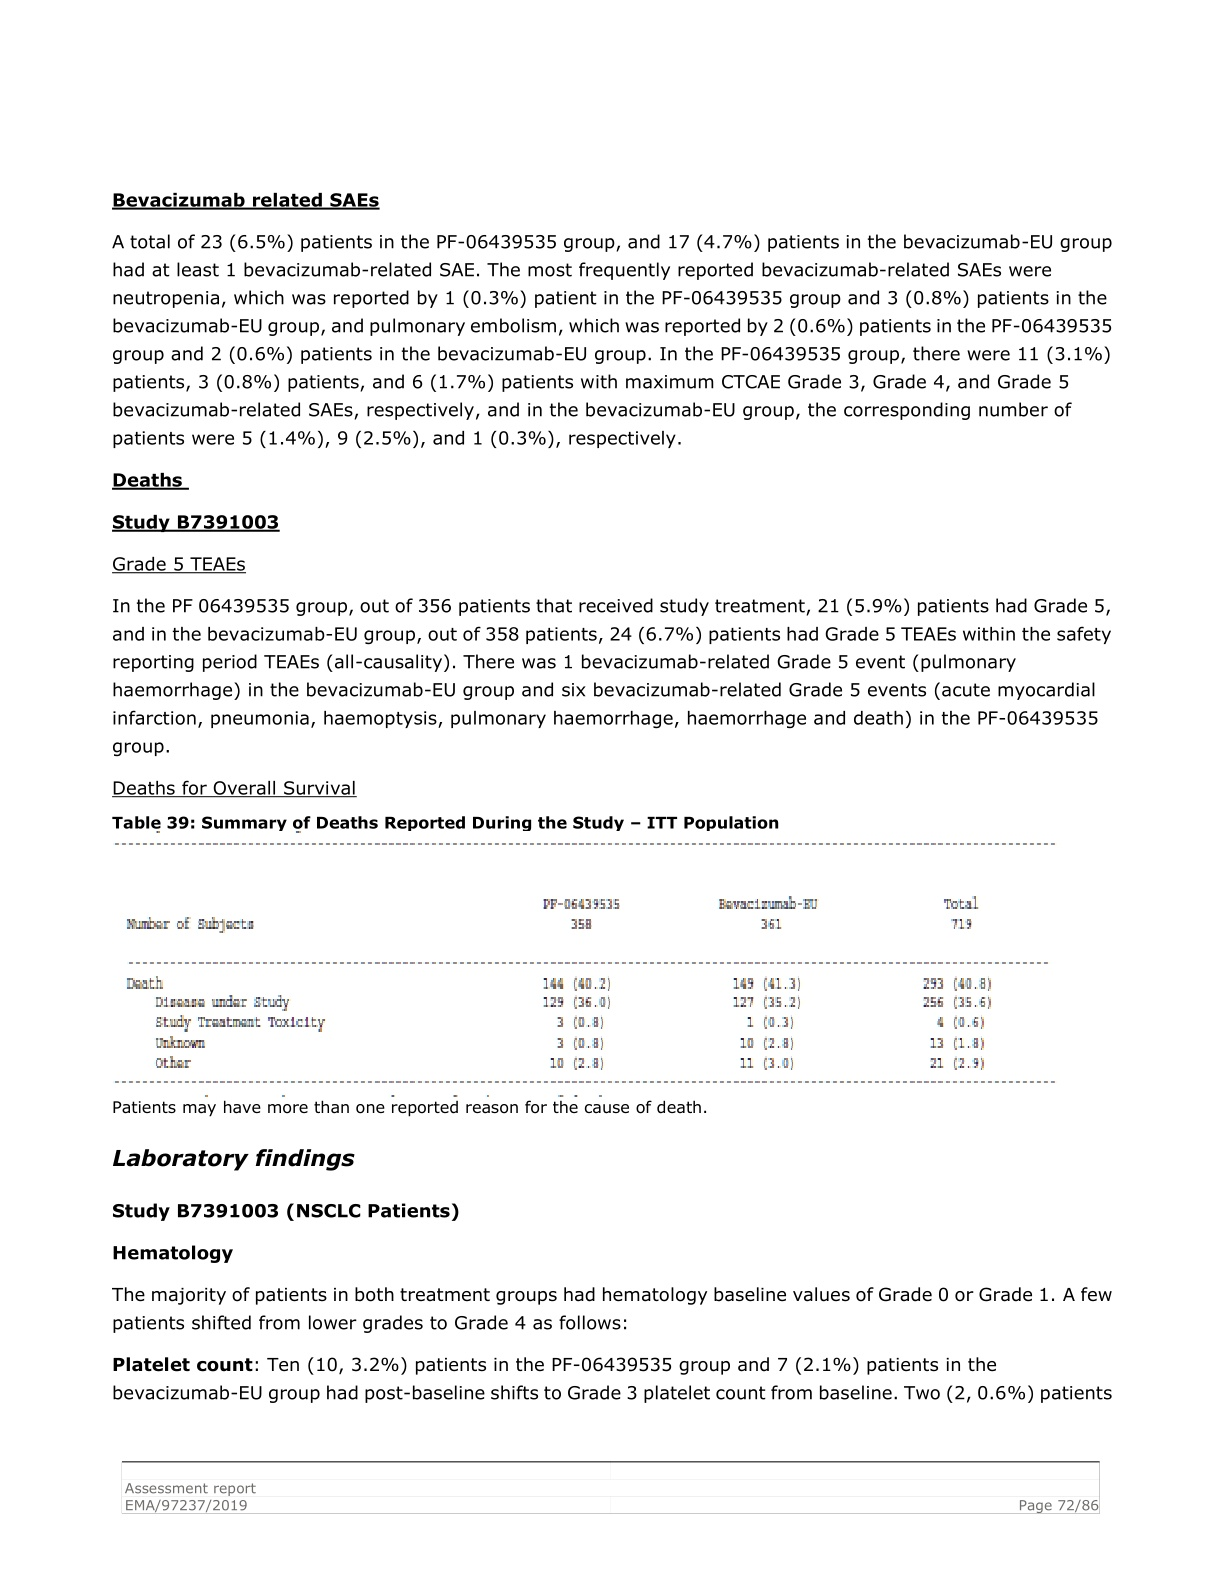partial_lined: (114, 841, 1061, 1086)
